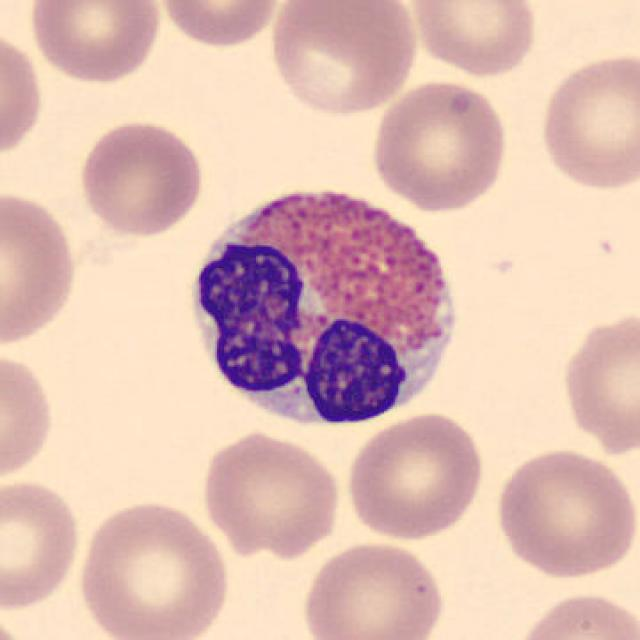Eosinophil: (178, 169, 474, 443)
RBC: (73, 495, 233, 640), (491, 444, 638, 582), (368, 76, 512, 213), (197, 428, 345, 559), (343, 409, 487, 543), (265, 0, 421, 118), (75, 116, 206, 238), (298, 537, 448, 640), (535, 48, 638, 194), (0, 185, 82, 351), (556, 305, 640, 460), (24, 0, 165, 86), (0, 474, 84, 612), (403, 0, 542, 79), (0, 346, 57, 486), (0, 24, 46, 166), (510, 589, 638, 640), (154, 0, 286, 49)
